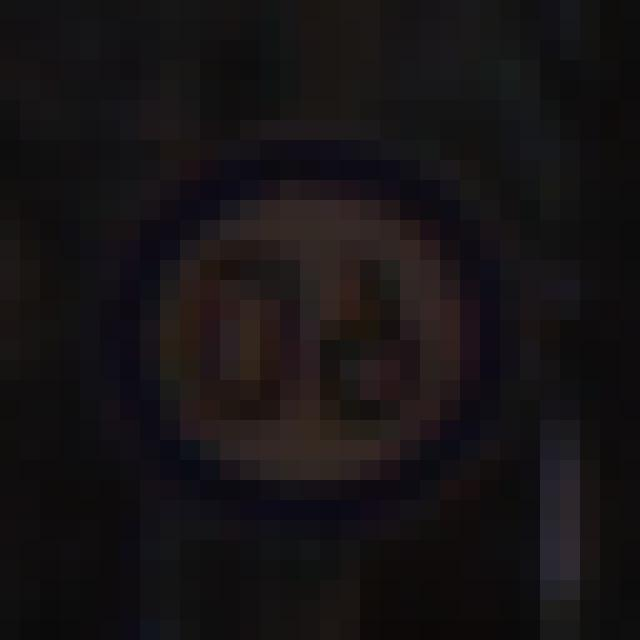SPEED-LIMIT-60: (101, 134, 528, 535)
